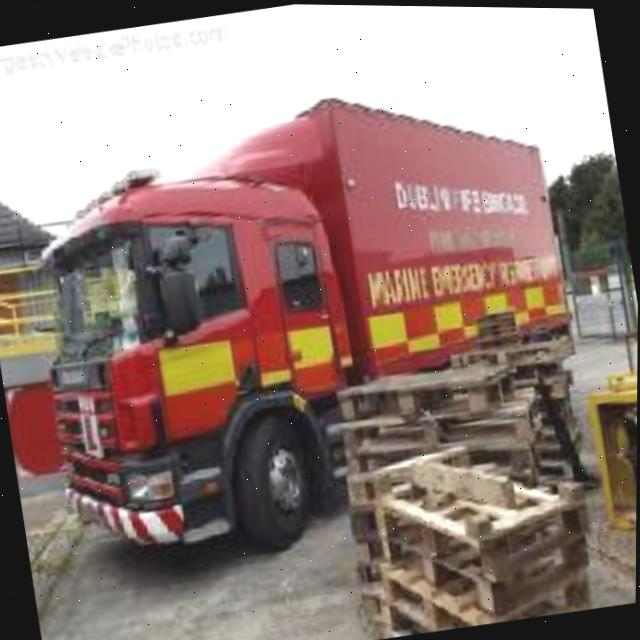emergency: (10, 63, 604, 560)
